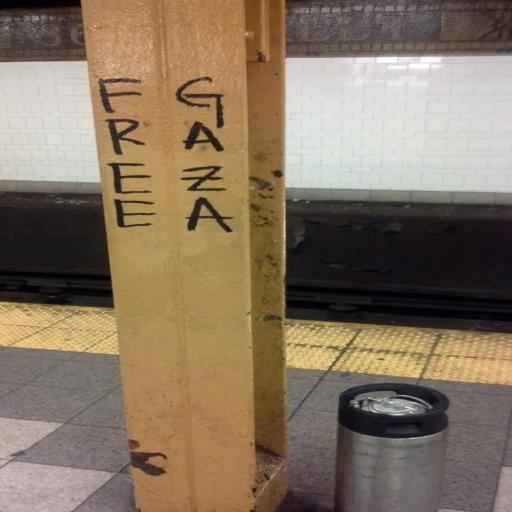trash-can: (330, 371, 460, 512)
